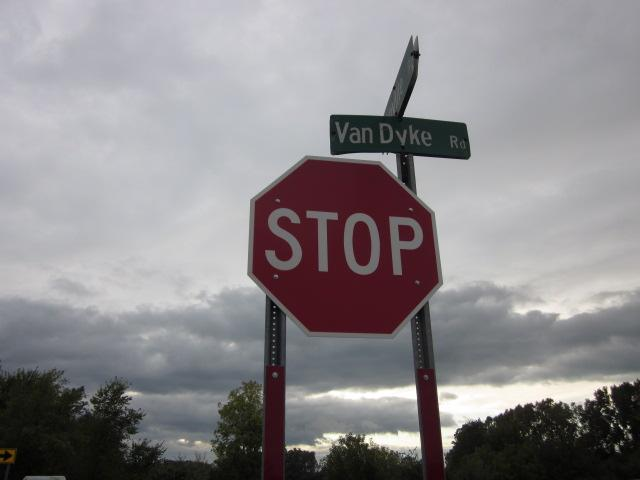stop: (242, 147, 444, 346)
